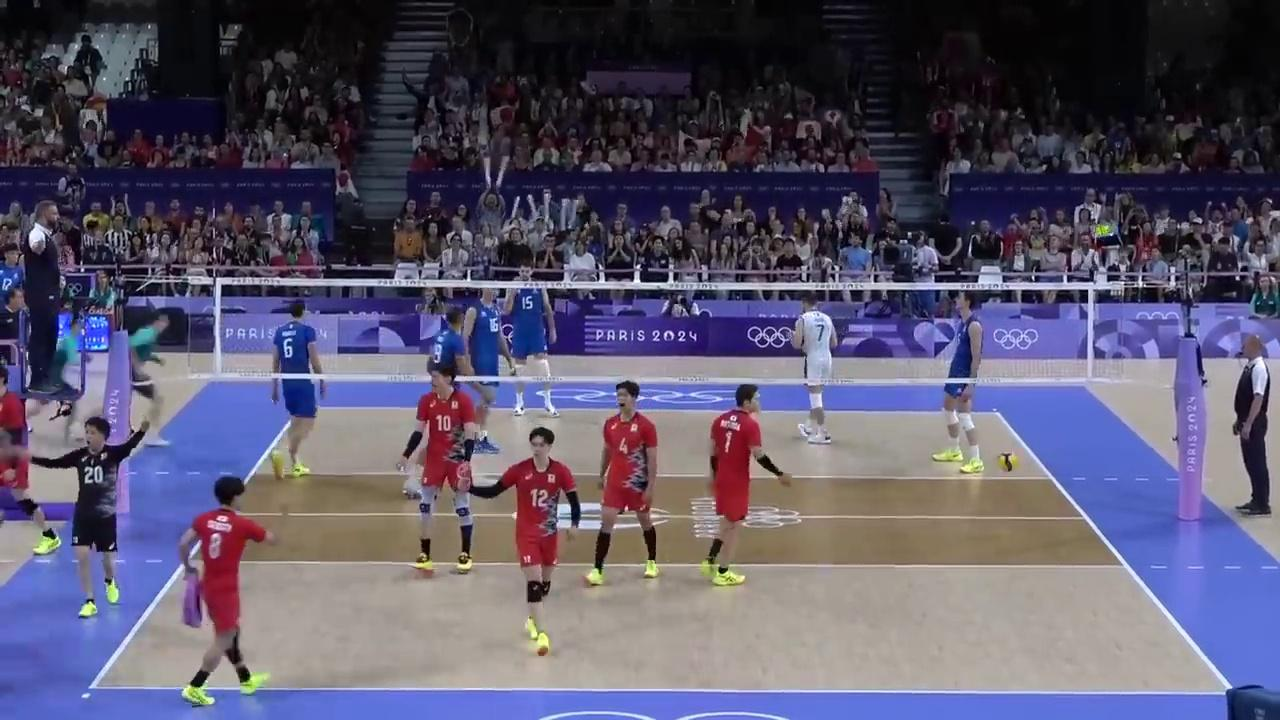ball: (998, 451, 1016, 471)
